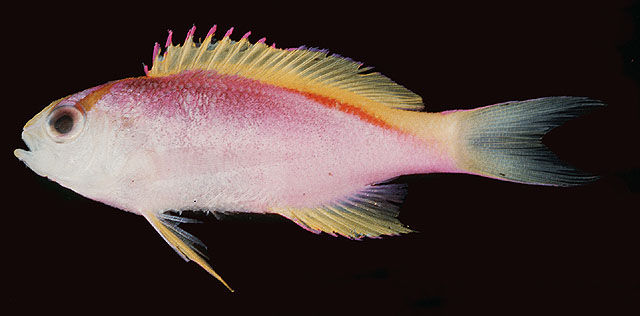fish: (14, 23, 607, 293)
